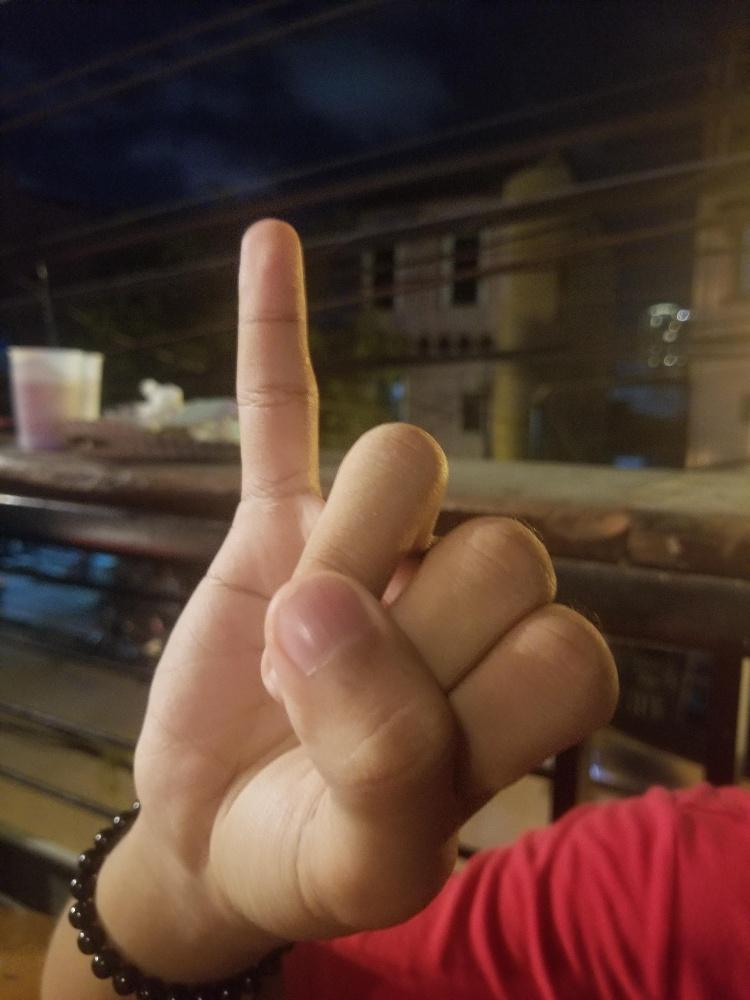i: (174, 215, 624, 943)
